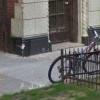Bicycle: (46, 42, 98, 87)
